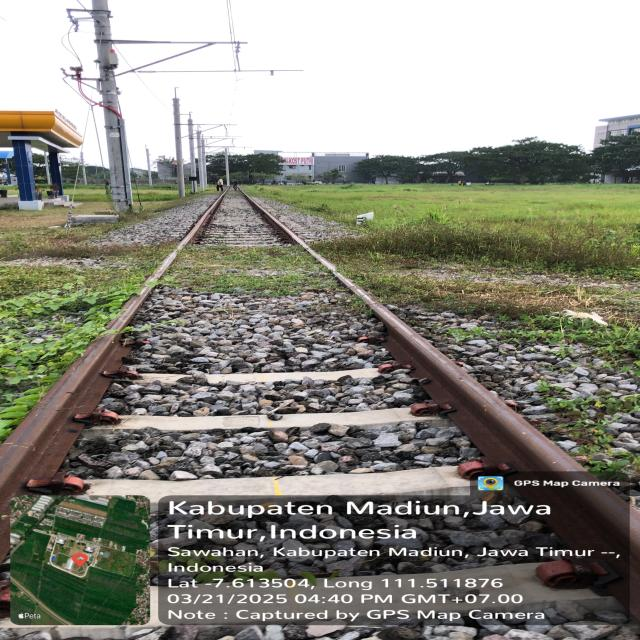rail-detection: (241, 191, 640, 622), (0, 332, 129, 561), (108, 193, 226, 331)
